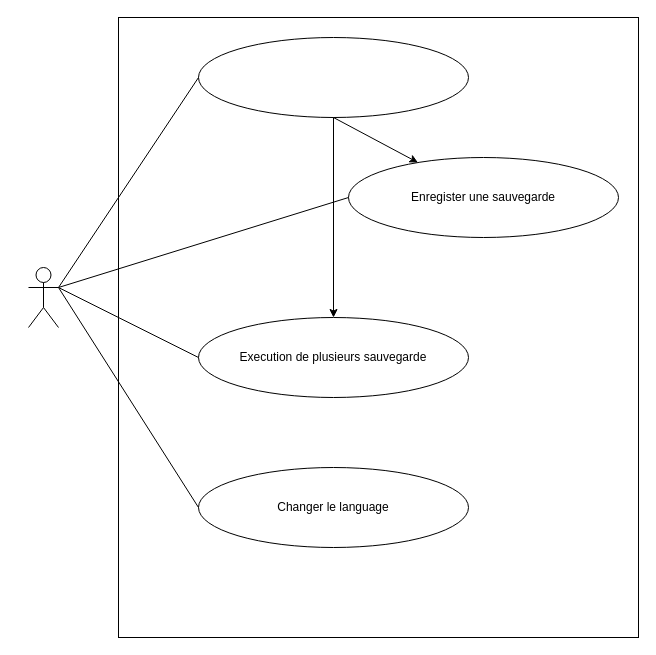
Some shapes in this 656 by 655 pixel diagram are drawn without their labels. Each missing label, with the centre of its shape:
"Executer une sauvegarde" belongs at [333,77].
"Utilisateur" belongs at [43,297].
